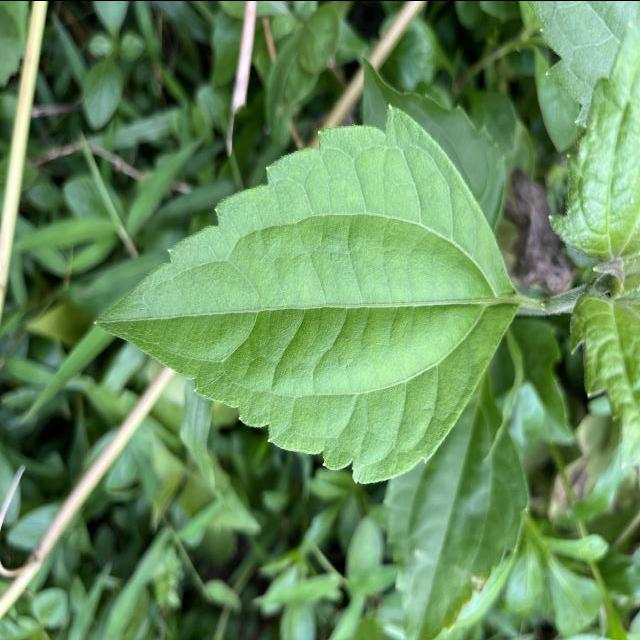Chromolaena odorata: (88, 100, 528, 488)
